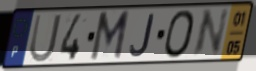4: (58, 12, 84, 62)
J: (128, 12, 155, 58)
M: (88, 9, 132, 64)
N: (189, 7, 231, 60)
O: (163, 8, 197, 60)
U: (27, 12, 64, 64)
